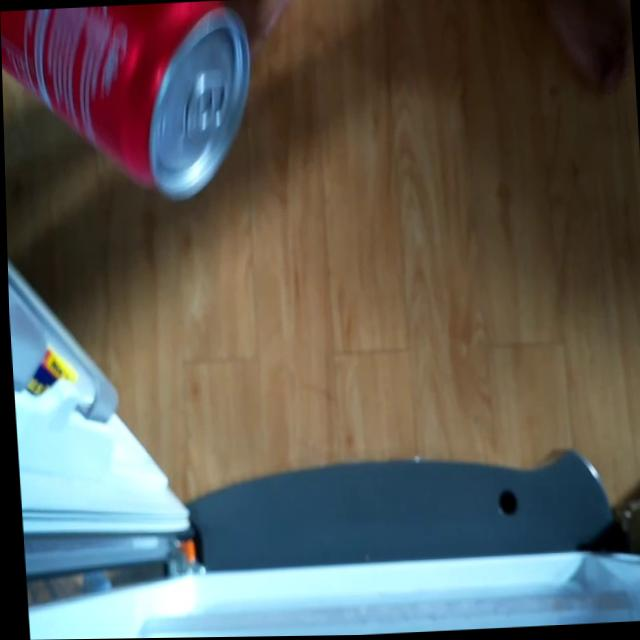coke: (0, 3, 258, 218)
